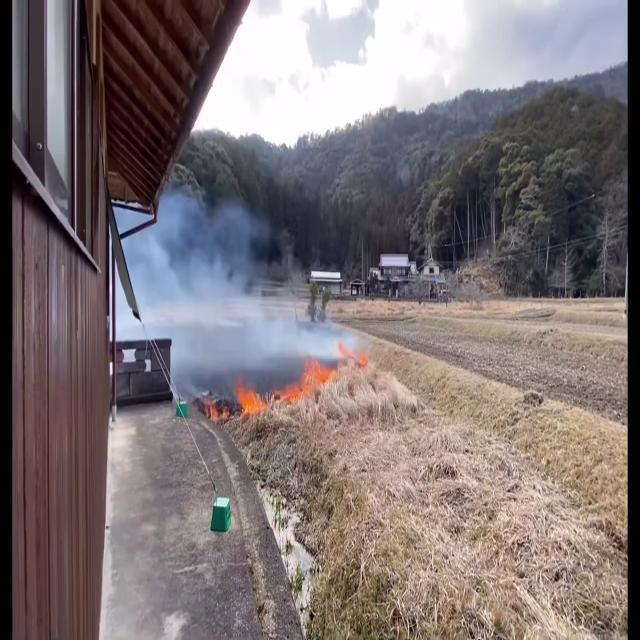Fire: (291, 345, 332, 411), (233, 374, 273, 424)
Smoke: (137, 125, 330, 389)
